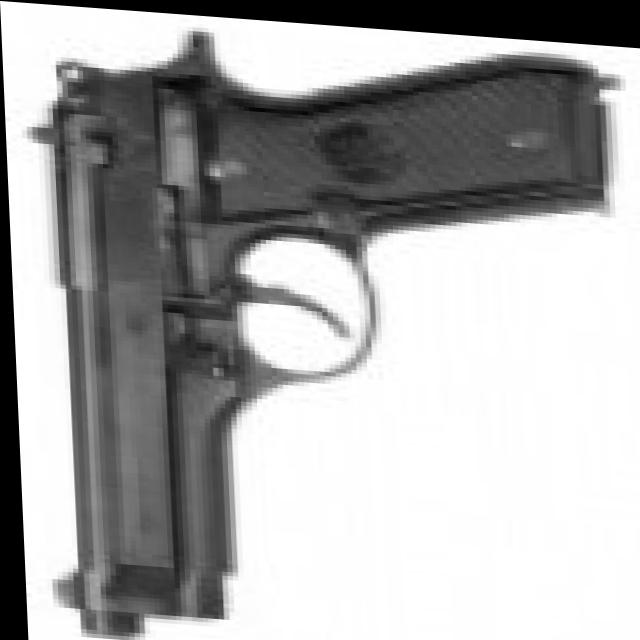handgun: (11, 29, 631, 640)
